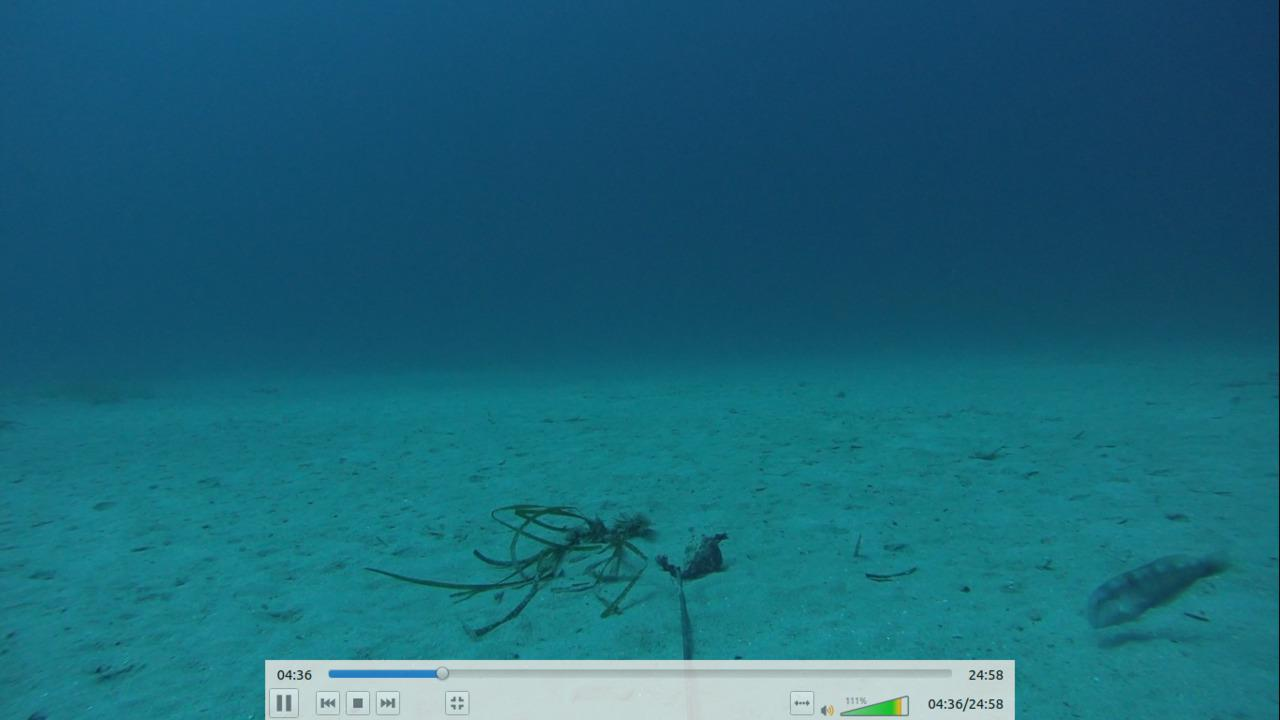raor: (1085, 549, 1234, 630)
